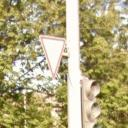preferencia: (38, 31, 68, 80)
